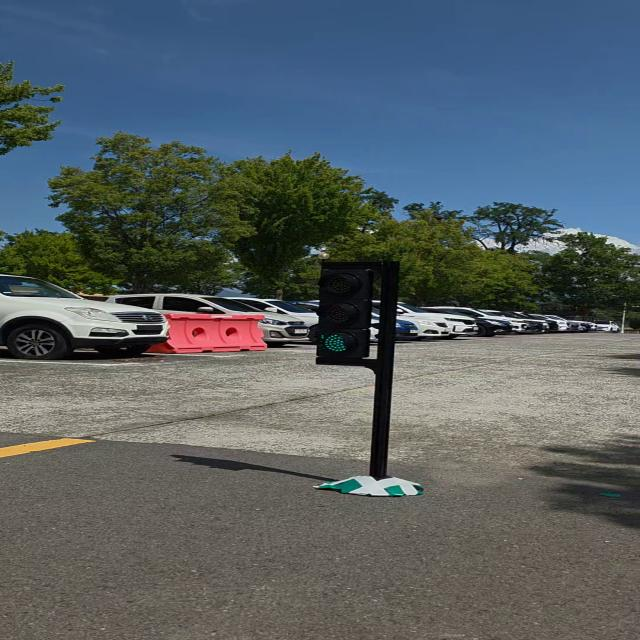green: (314, 259, 379, 366)
